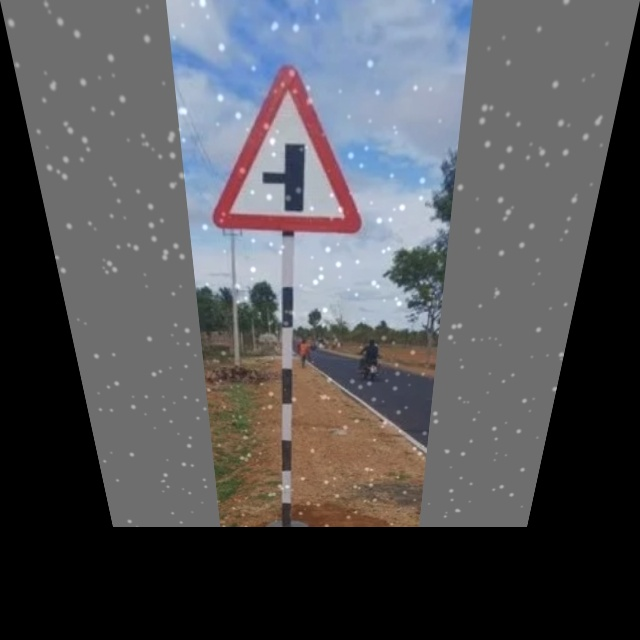Side_Road_Left: (206, 63, 367, 239)
